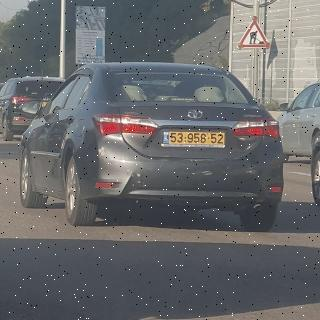LicensePlate: (170, 132, 225, 144)
